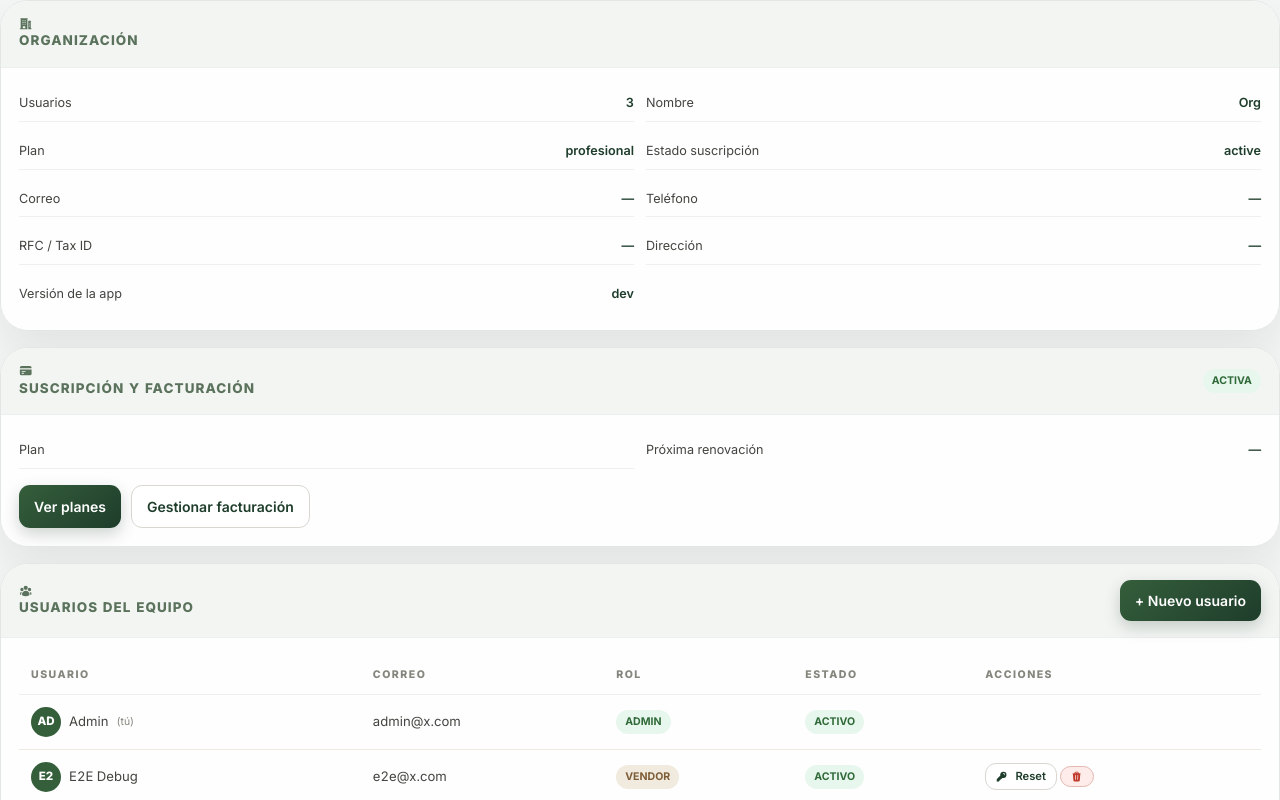
Scenario: Baja de un usuario › ofrece traspasar la cartera cuando el backend rechaza la baja
Expected: the text "E2E Debug" is shown, [69,768,138,784]
Click the button named "Eliminar E2E Debug": (1077, 777) [1060,766,1094,787]
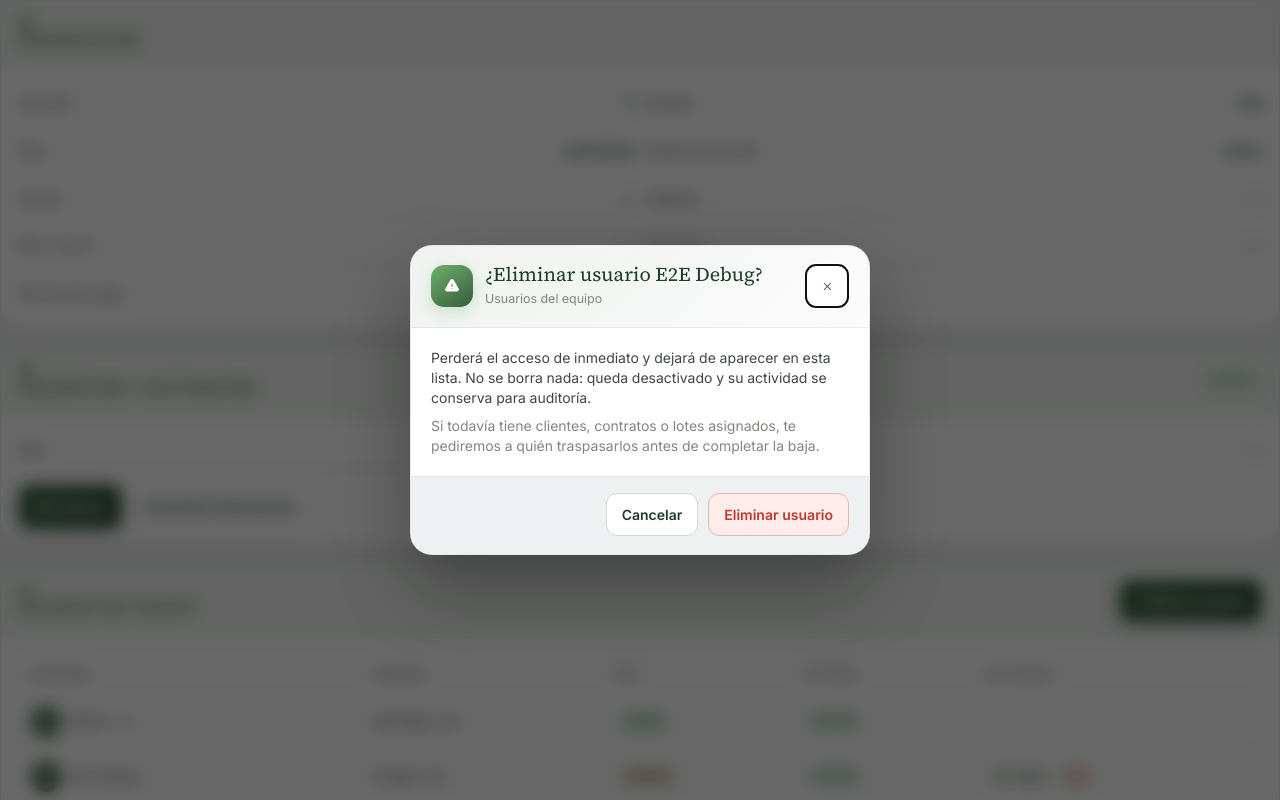
Click the button "Eliminar usuario": (779, 514) [708,493,849,536]
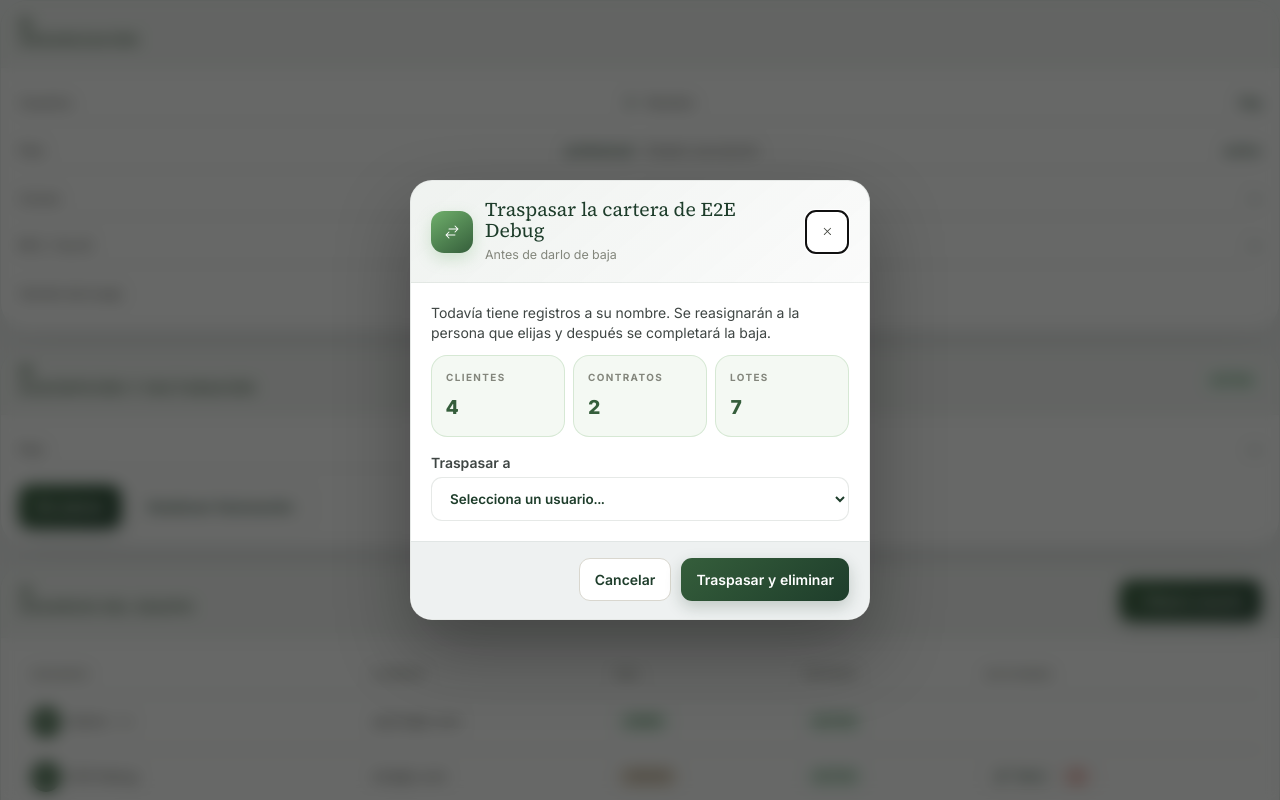
Result: the text "Traspasar la cartera de E2E Debug" is shown at [485,196,736,244]
Result: the text "4" is shown at [446,395,458,419]
Result: the text "7" is shown at [730,395,742,419]
